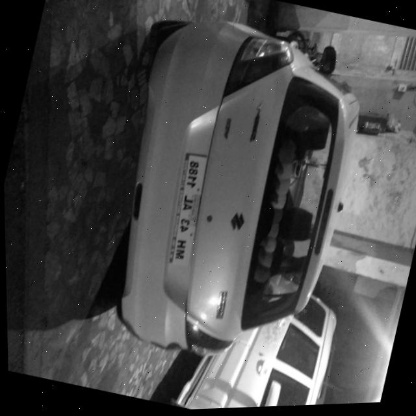car: (80, 75, 410, 414), (205, 280, 302, 344)
